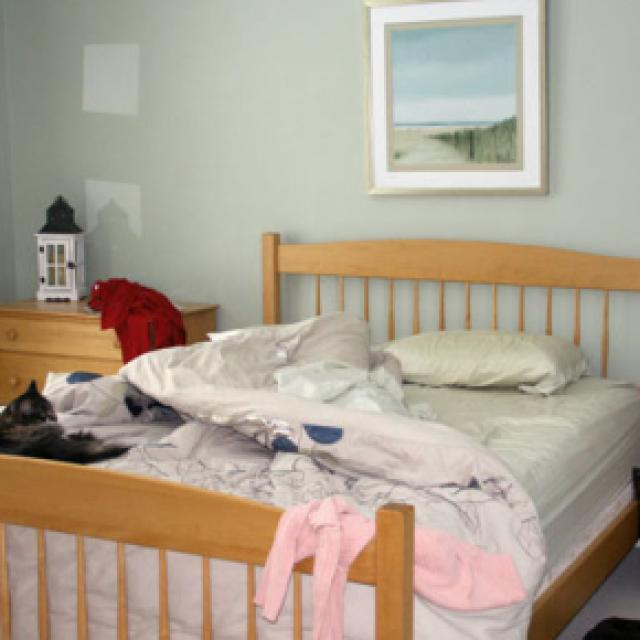scattered-items: (7, 366, 522, 570)
